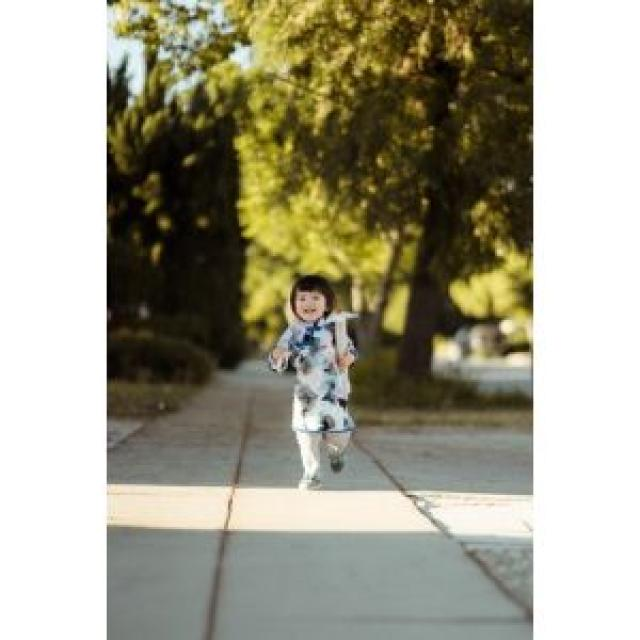nonfall: (277, 273, 368, 499)
